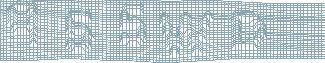5: (63, 9, 95, 55), (117, 3, 148, 48)
D: (229, 9, 268, 52)
W: (157, 11, 212, 58)
q: (5, 2, 40, 48)
